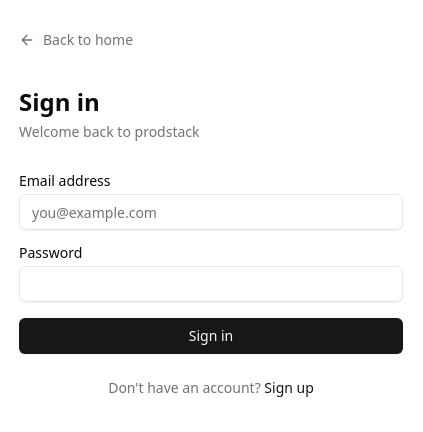
Test: LoginPage › shows error message on failed sign in
Type "wrong@example.com" into the field labelled "Email address" at {"x": 211, "y": 212}, box [19,194,403,230]
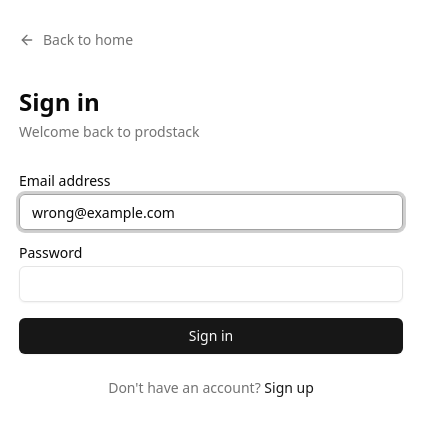
Type "wrongpassword" into the password field labelled "Password" at {"x": 211, "y": 284}, box [19,266,403,302]
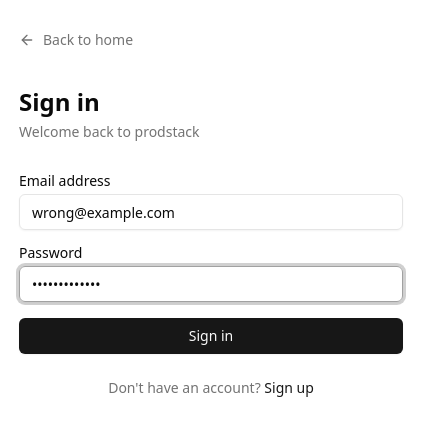
Click the button "Sign in" at {"x": 211, "y": 336}, box [19,318,403,354]
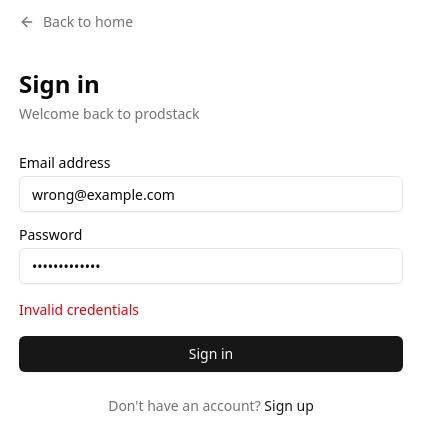
Check: the text "Invalid credentials" is shown, box [19,300,139,319]
